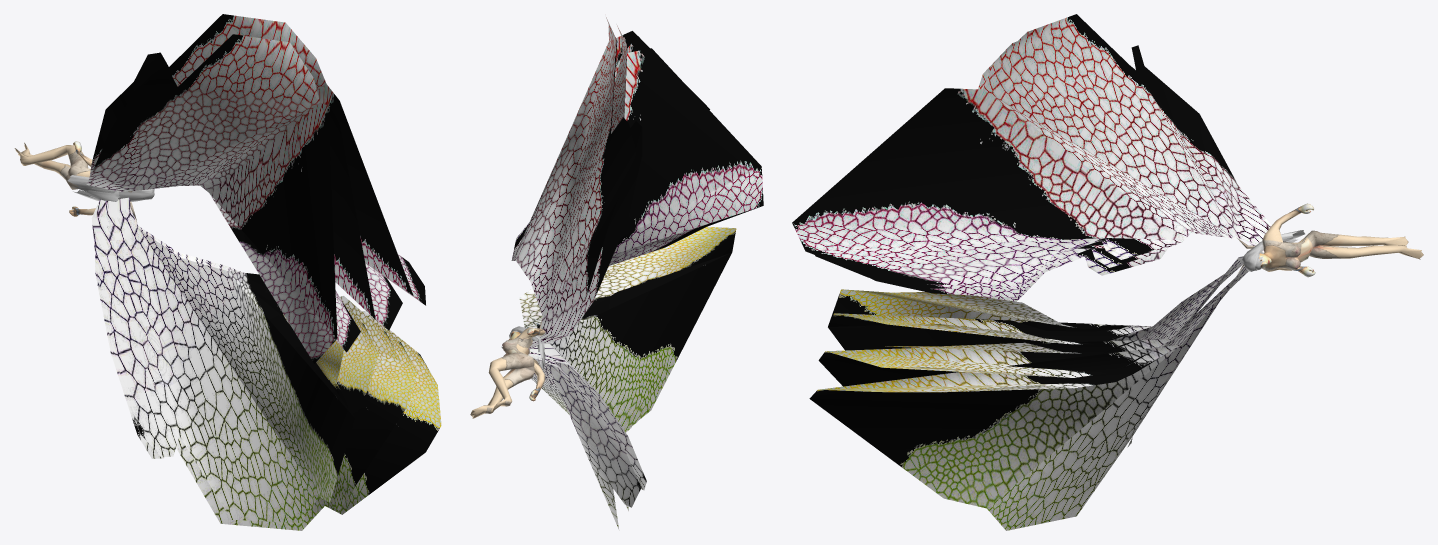
Rendered from angel_000201.obj.
3 views of the same model, side by side, from view 1: azimuth 30°, elevation 25°; view 2: azimuth 150°, elevation 25°; view 3: azimuth 270°, elevation 25° (orthographic). The views are drawn at different scales.
Parts seen in each view (by area): view 1: wings_Plane.001, body.001_omino.012, hair.003_omino.013; view 2: wings_Plane.001, body.001_omino.012; view 3: wings_Plane.001, body.001_omino.012.
Part boxes in pixels (x1,y1,x2,y2): wings_Plane.001: (86,14,441,530); body.001_omino.012: (14,141,136,221); hair.003_omino.013: (67,175,154,201); wings_Plane.001: (501,17,763,530); body.001_omino.012: (470,319,545,418); wings_Plane.001: (792,14,1271,530); body.001_omino.012: (1237,203,1423,277).
Bounding box in the file's own units: 3.22 × 8.33 × 9.47.
